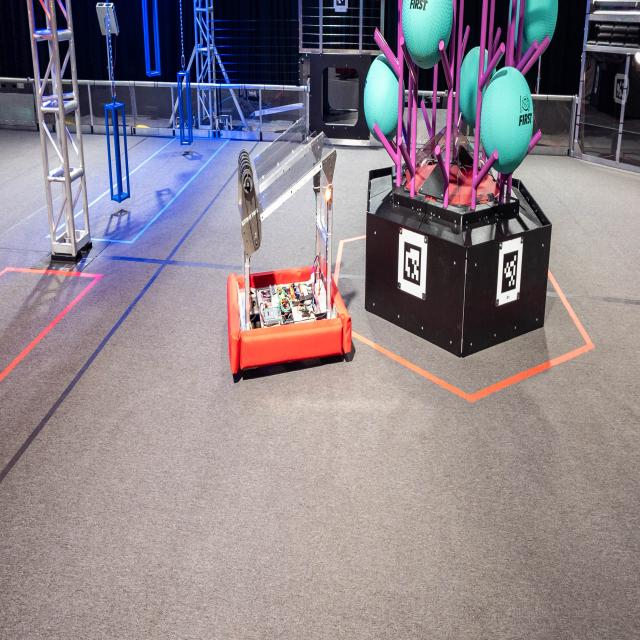Algae: (481, 67, 534, 174), (364, 54, 406, 142), (401, 0, 453, 68), (458, 48, 496, 128), (509, 0, 559, 57)
